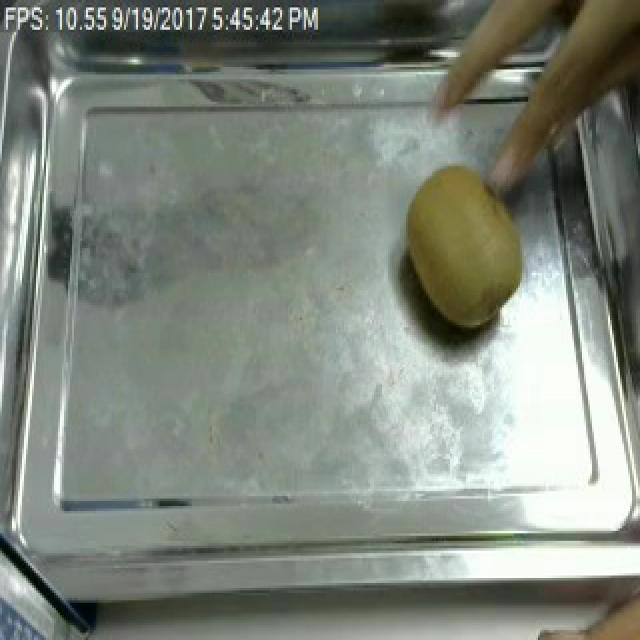Fruit: (394, 149, 540, 340)
